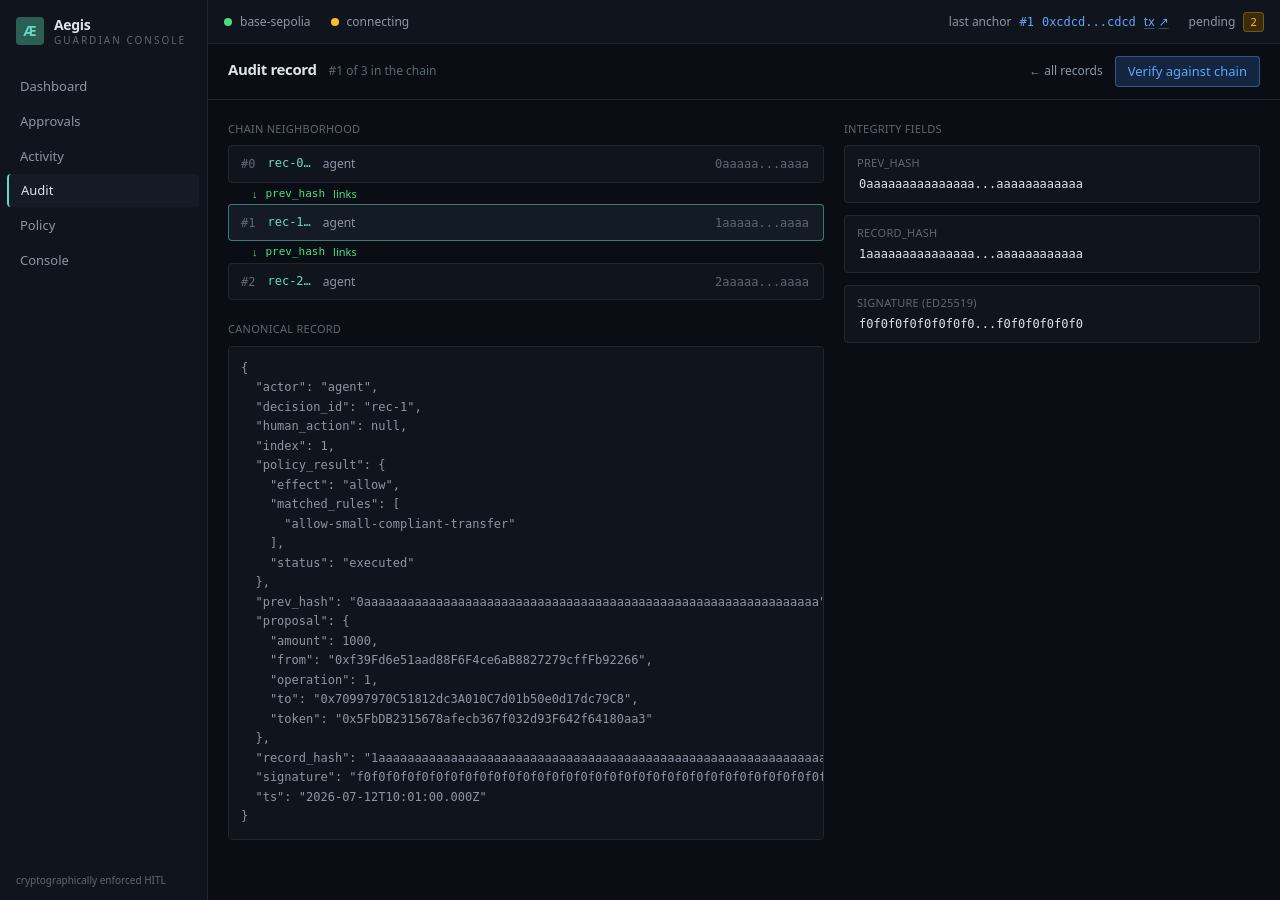
Test: AuditRecordPage › renders PROOF OK with the merkle path and matching roots
This screenshot has width=1280, height=900.
Click the button "Verify against chain": (1187,71) 1115,56 -> 1260,87
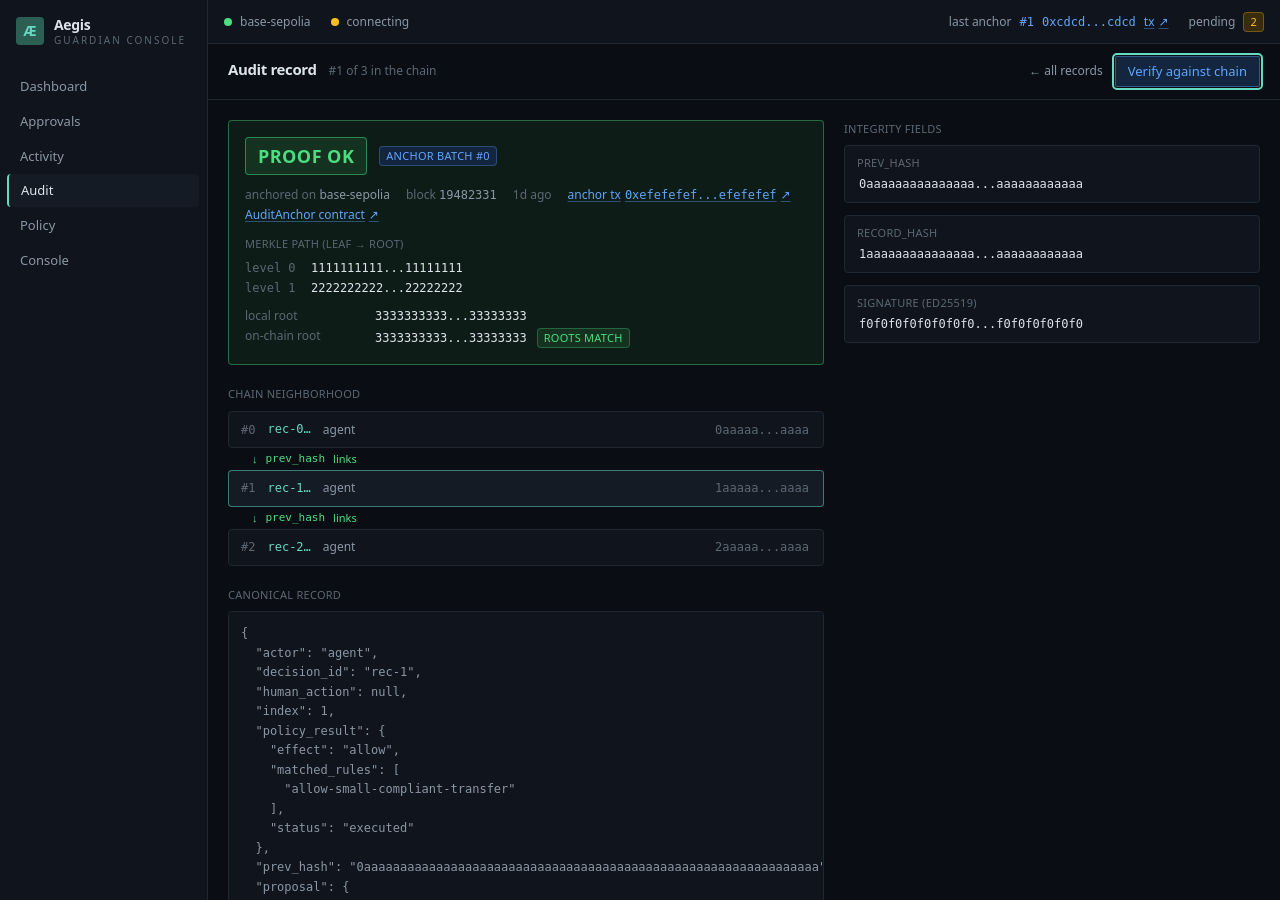
Expected: the text "PROOF OK" is shown, 245,137 -> 367,175
Expected: the text "anchor batch #0" is shown, 379,146 -> 497,166
Expected: the text "level 0" is shown, 245,260 -> 301,276
